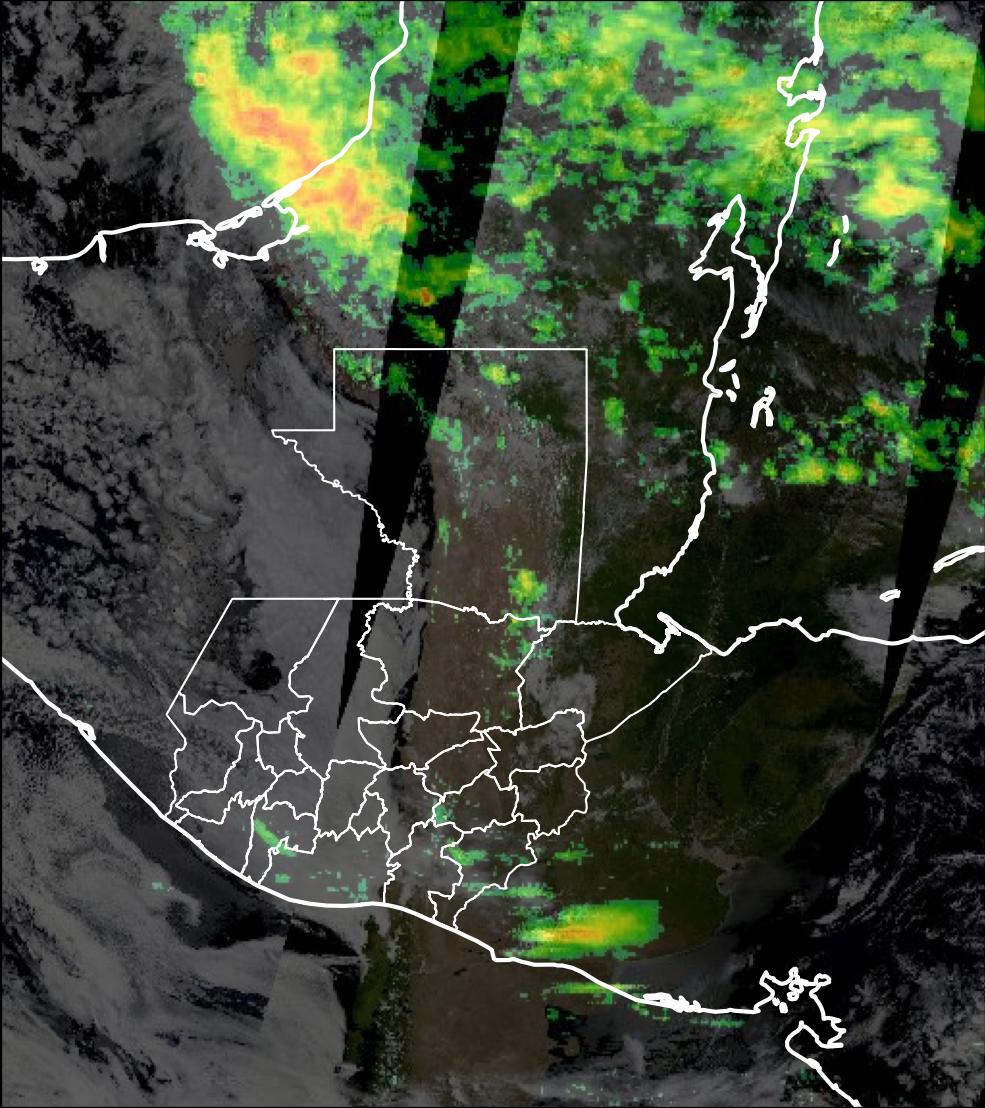precipitacion: (212, 64, 409, 244)
